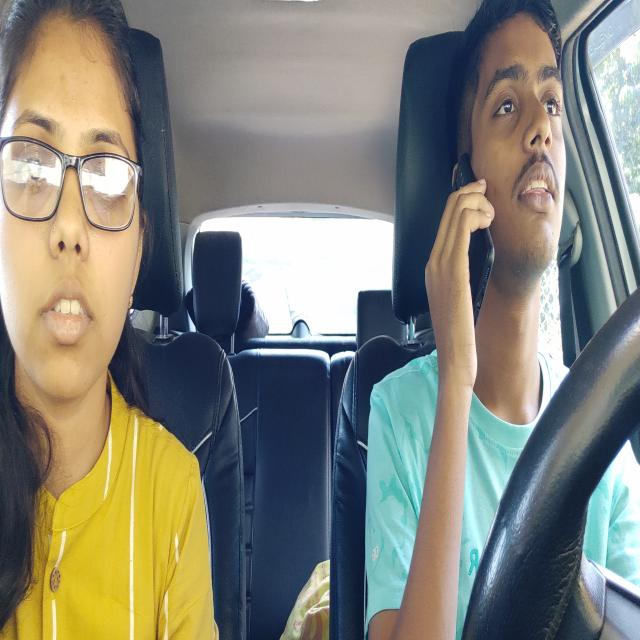mobile: (454, 147, 504, 323)
person: (2, 2, 154, 450), (440, 0, 583, 353)
